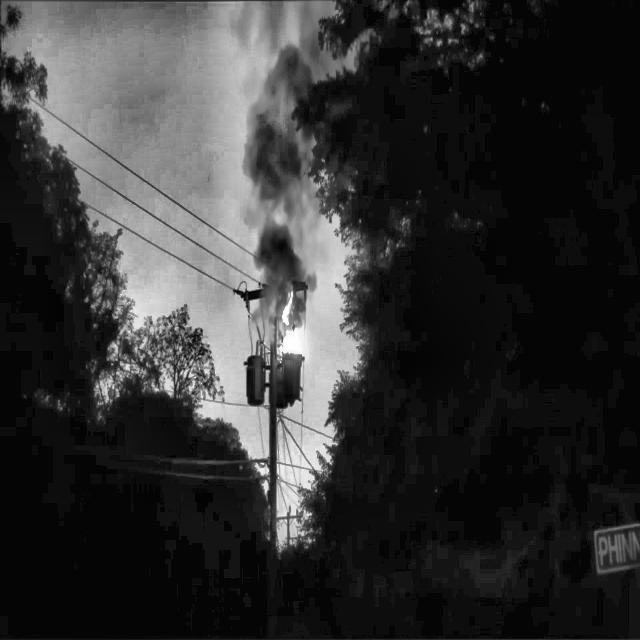Fire: (272, 280, 308, 365)
